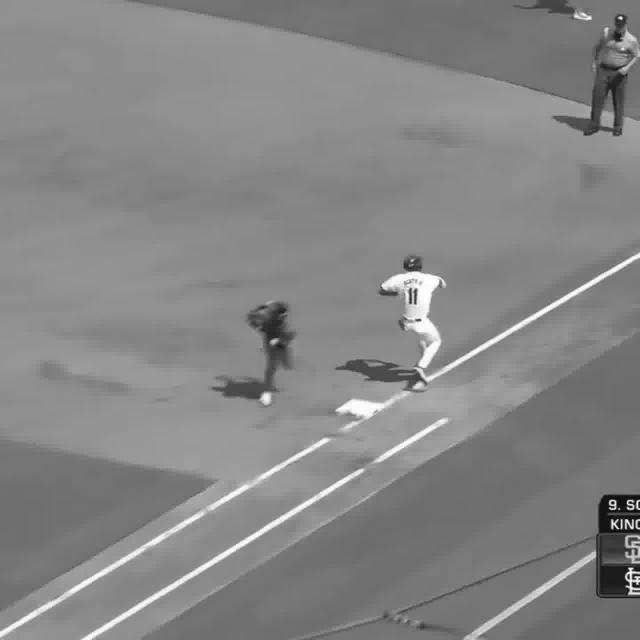baseball: (336, 398, 383, 419)
shoe: (413, 366, 426, 387), (261, 392, 273, 408)
